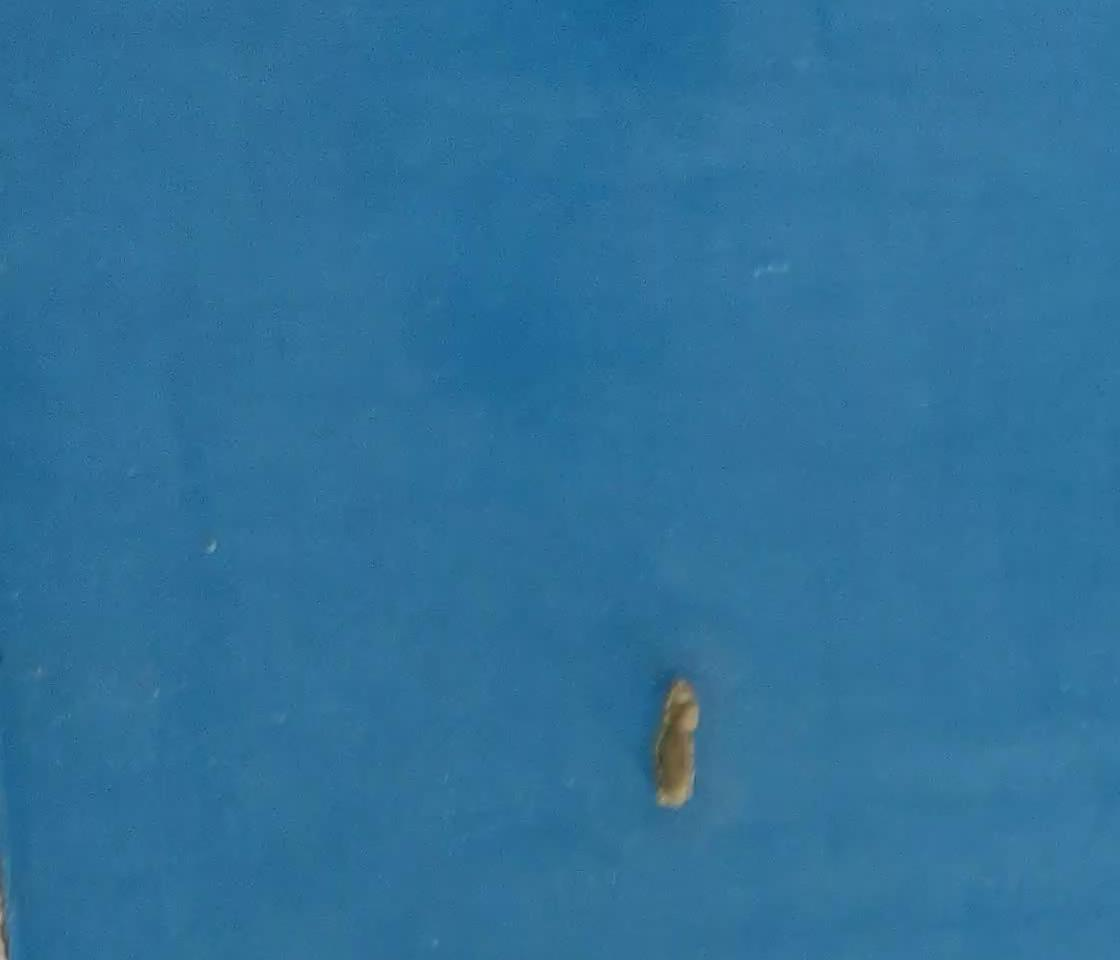paint_peel: (632, 675, 715, 815)
